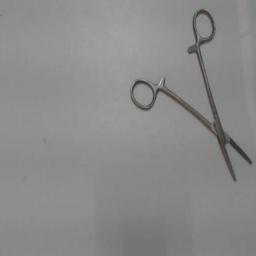Mayo Needle Holder: (126, 6, 254, 192)
